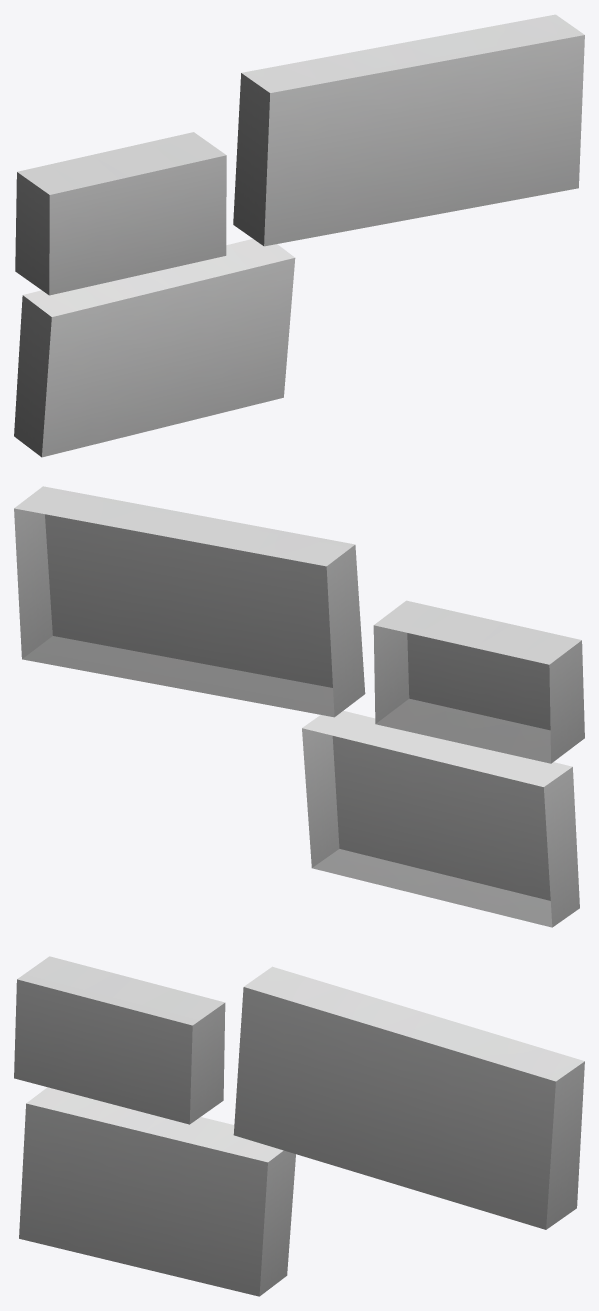
Rendered from Bricks_04.fbx.
3 views of the same model, one above another, from view 1: azimuth 30°, elevation 25°; view 2: azimuth 150°, elevation 25°; view 3: azimuth 330°, elevation 25° (orthographic).
Parts seen in each view (by area): view 1: Bricks_04; view 2: Bricks_04; view 3: Bricks_04.
Boxes of the visible parts, <box> form: Bricks_04: <box>14,14,584,457</box>; Bricks_04: <box>14,486,584,927</box>; Bricks_04: <box>14,956,584,1296</box>.
Size of the model in its own units: 104 by 56.76 by 11.33.
Materials: 1 (1 with a texture image).
